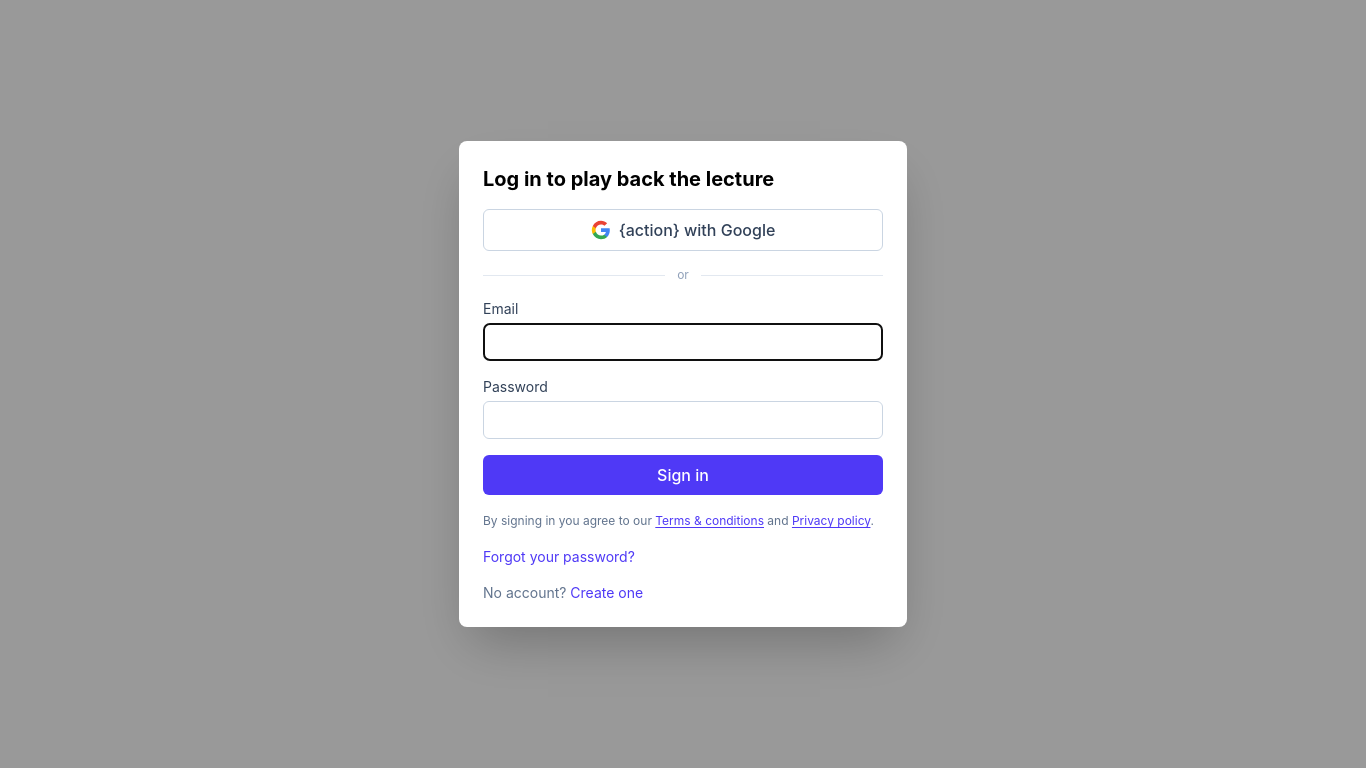
Test: SignInDialog › shows the server error inline and stays open on a failed sign-in
Type "ada@example.com" into the field labelled "Email" at (683, 342), box [483,323,883,361]
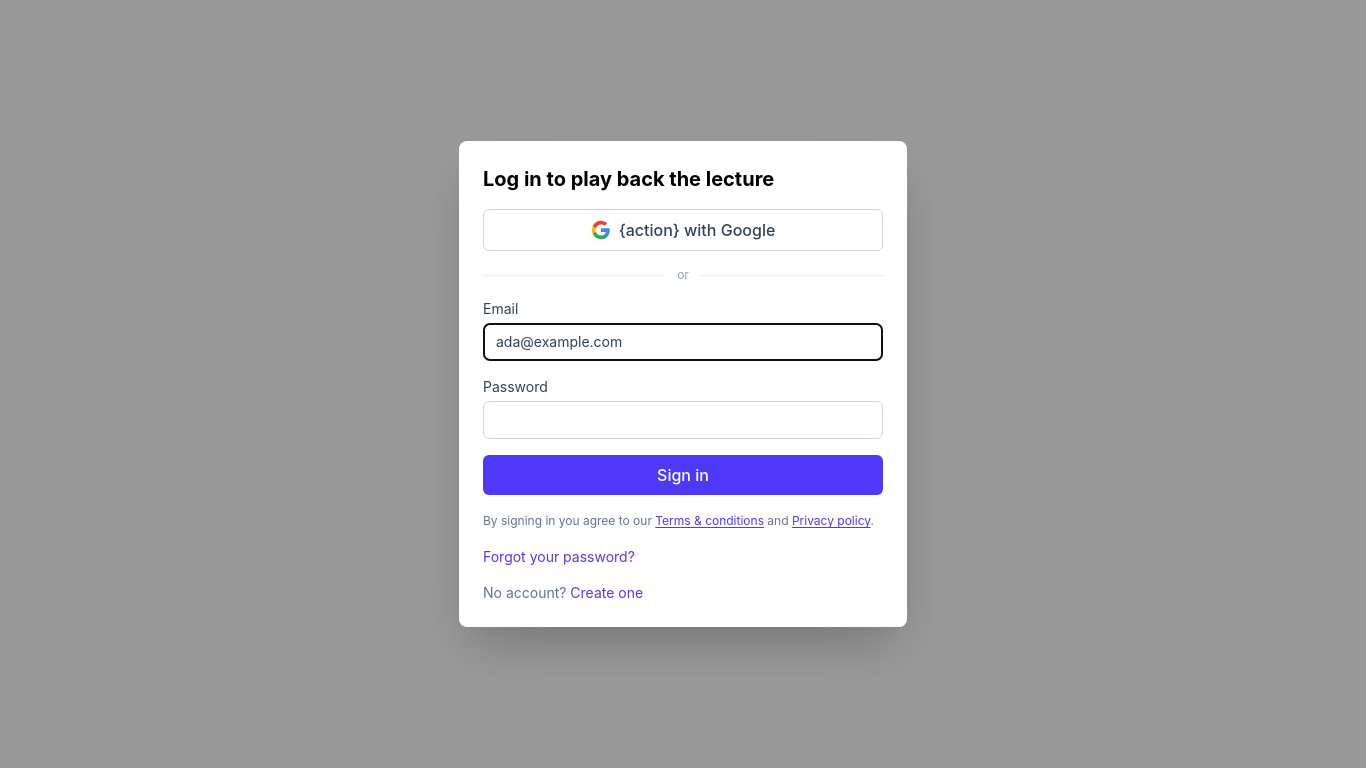
Type "wrong-password" into the password field labelled "Password" at (683, 420), box [483,401,883,439]
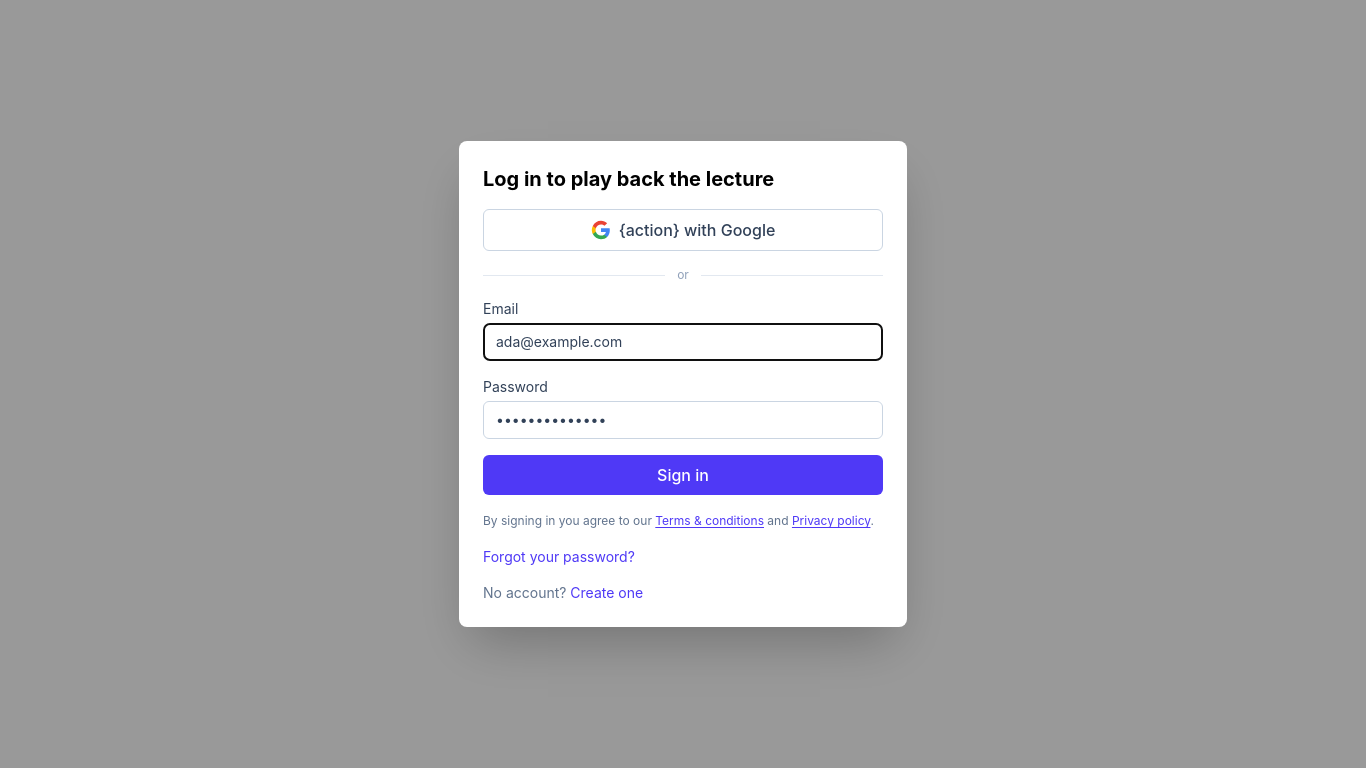
Click the button "Sign in" at (683, 475), box [483,455,883,495]
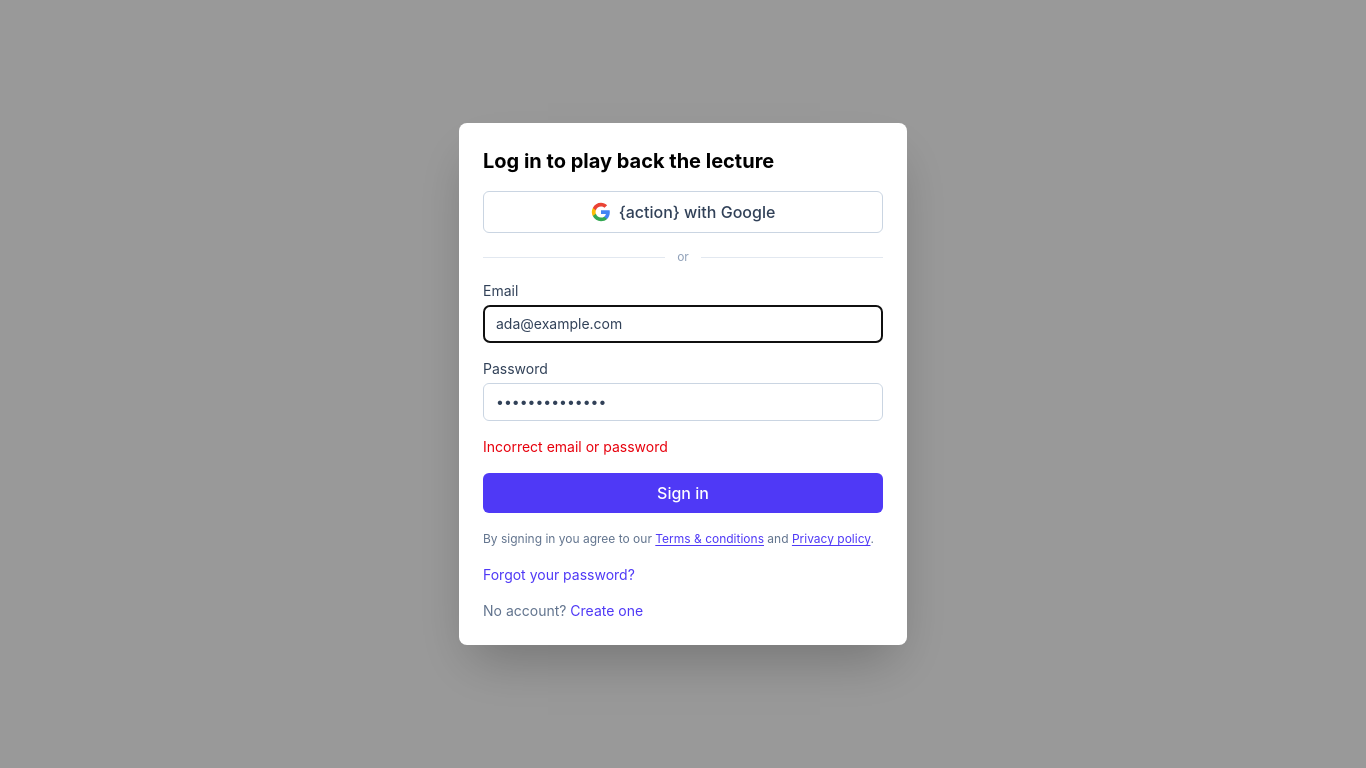
Expected: the message reads "Incorrect email or password", [483,438,668,455]
